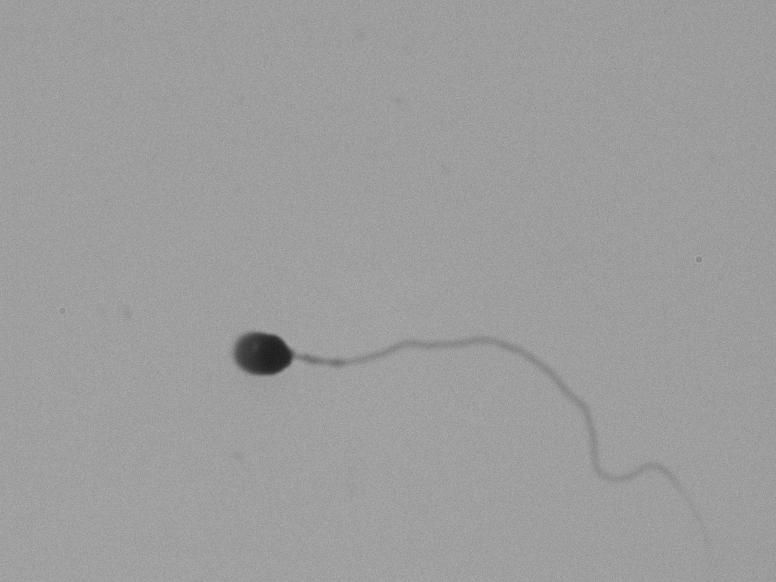Normal: (161, 281, 676, 515)
